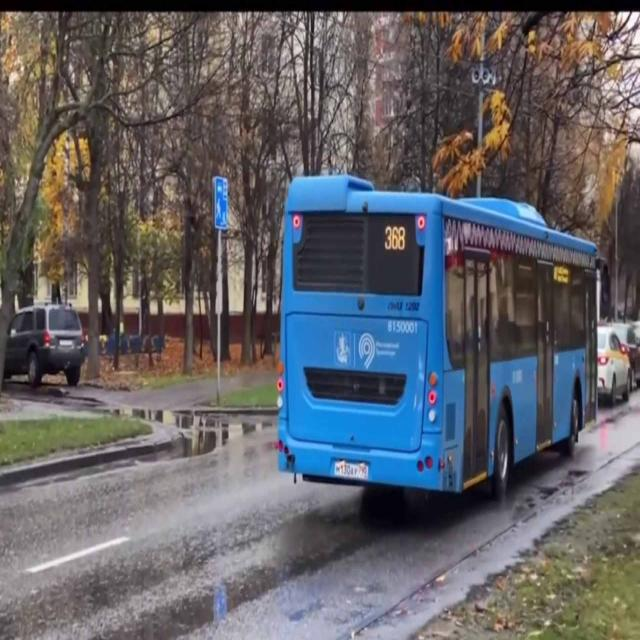bus: (277, 158, 604, 517)
